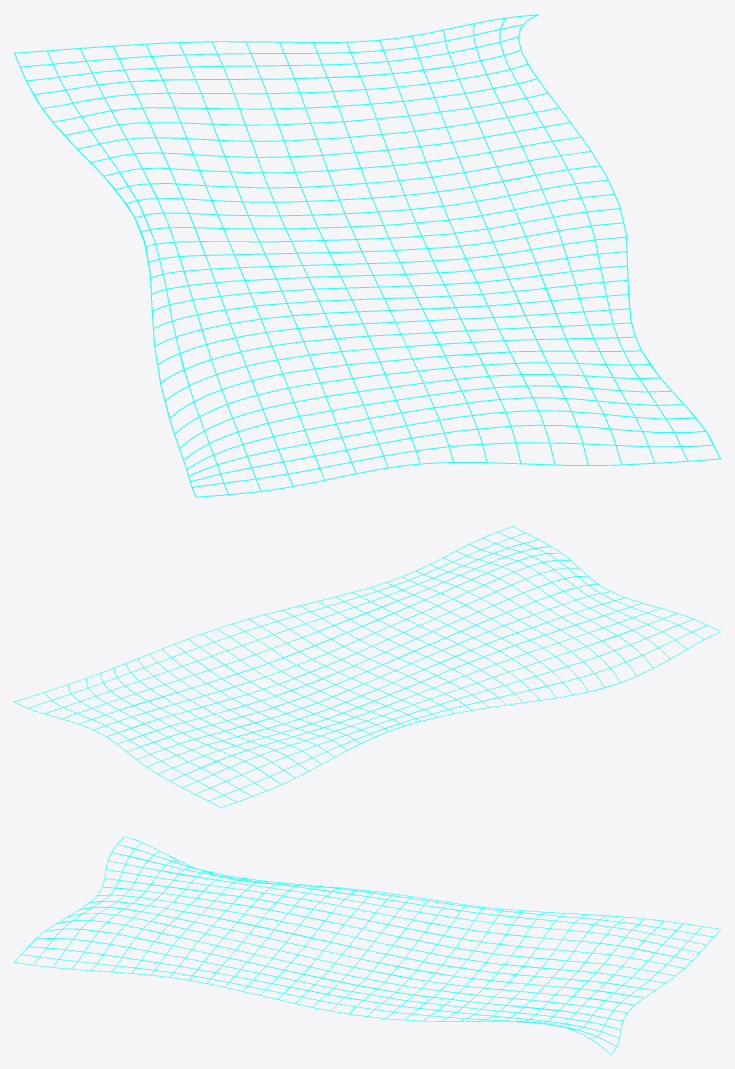
Rendered from DIP63js.glb.
3 renders of one model, top to bottom at view 1: azimuth 30°, elevation 25°; view 2: azimuth 150°, elevation 25°; view 3: azimuth 270°, elevation 25°, orthographic. The views are drawn at different scales.
Parts seen in each view (by area): view 1: dip 6.002; view 2: dip 6.002; view 3: dip 6.002.
Boxes of the visible parts, left/top/right/bottom form: dip 6.002: left=14, top=14, right=720, bottom=497; dip 6.002: left=14, top=526, right=720, bottom=807; dip 6.002: left=14, top=836, right=720, bottom=1054.
Bounding box in the file's own units: 6.9 × 0.4877 × 9.43.
